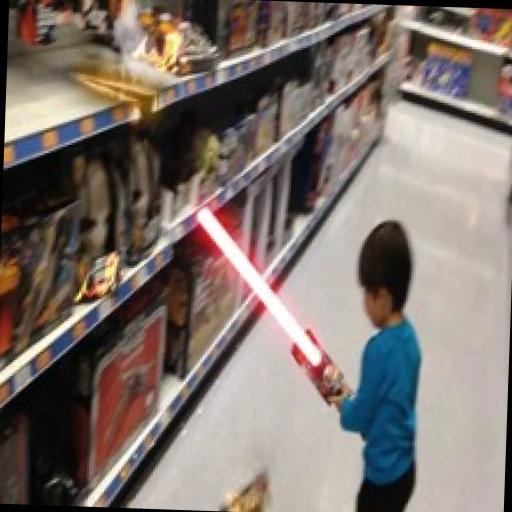human: (330, 217, 428, 512)
sith saber: (184, 206, 351, 397)
